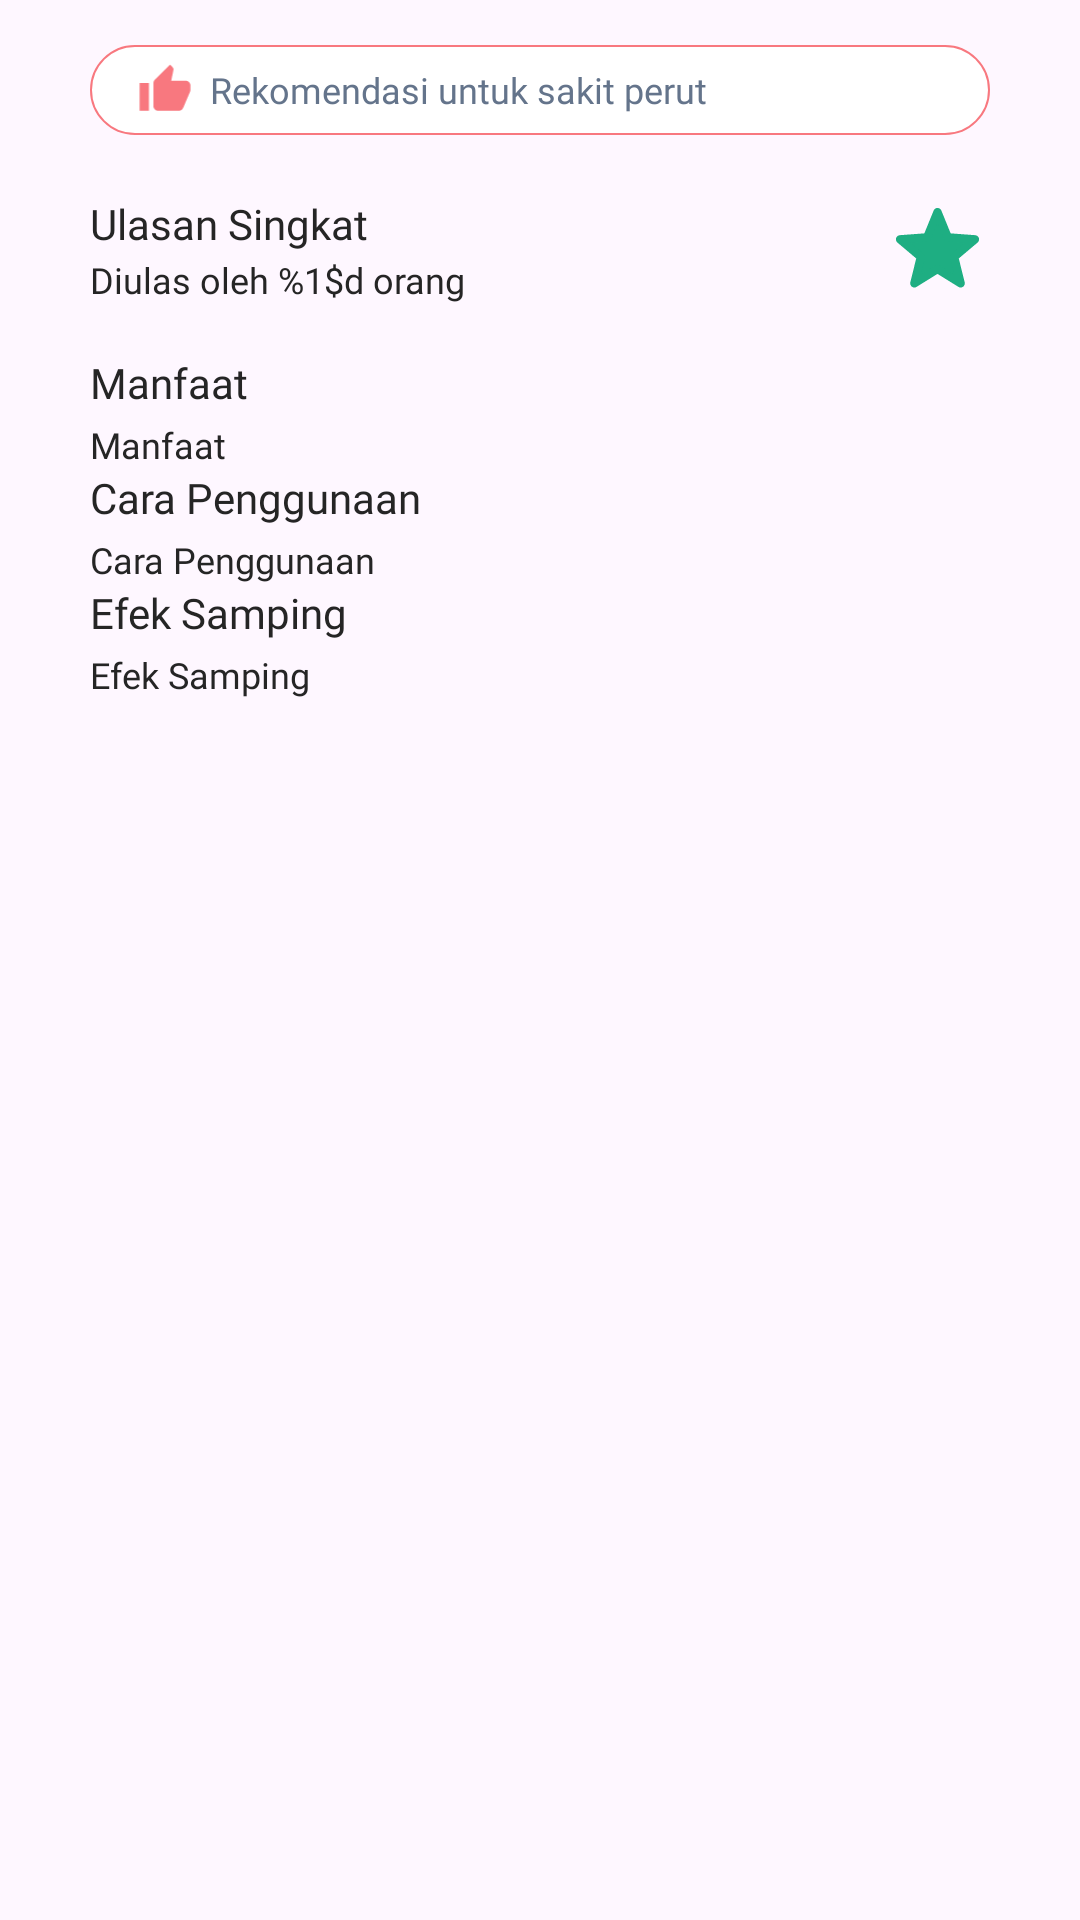

Point at icon controls on the screen. Image size 1080 × 1920, points as (x,y).
Ikon Bintang: (937,248)
Ikon Rekomendasi: (165,88)
